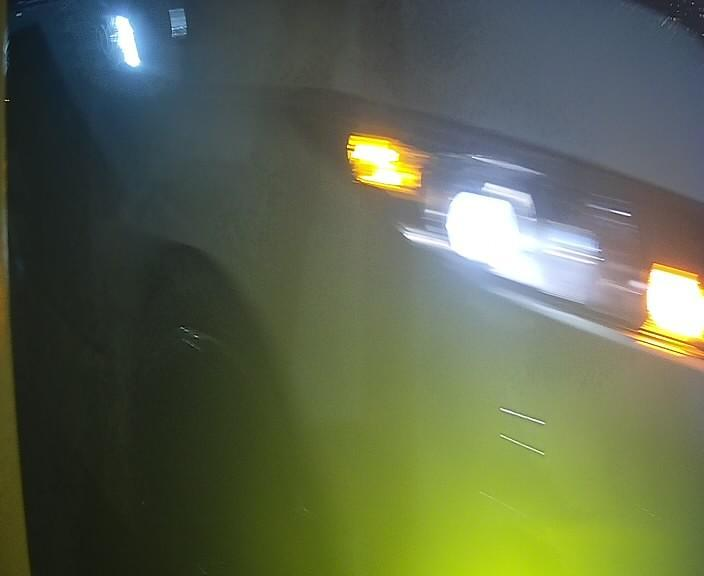privatecar: (74, 4, 704, 513)
